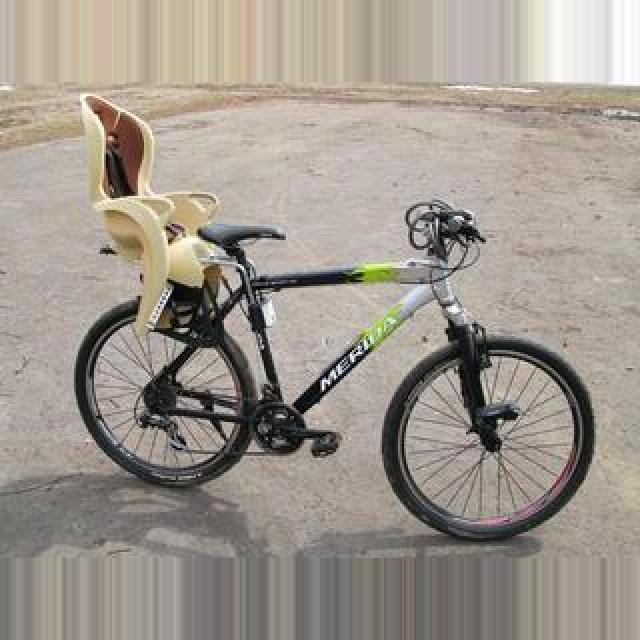Person: (57, 172, 593, 544)
